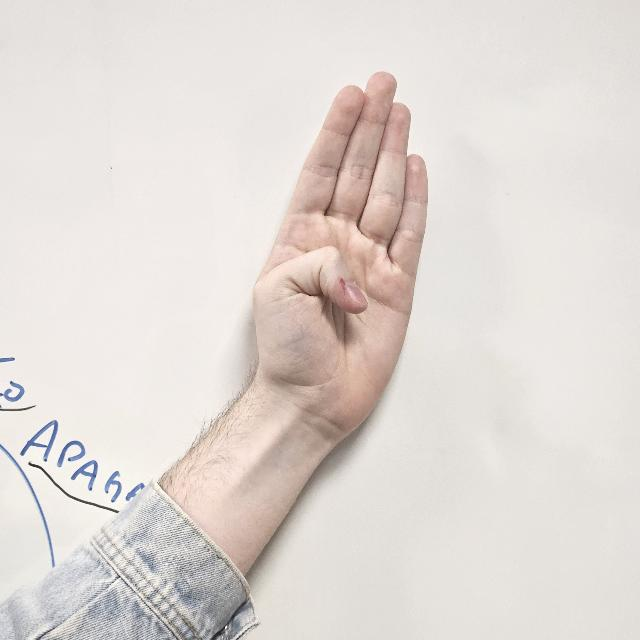Baixo: (250, 58, 432, 444)
